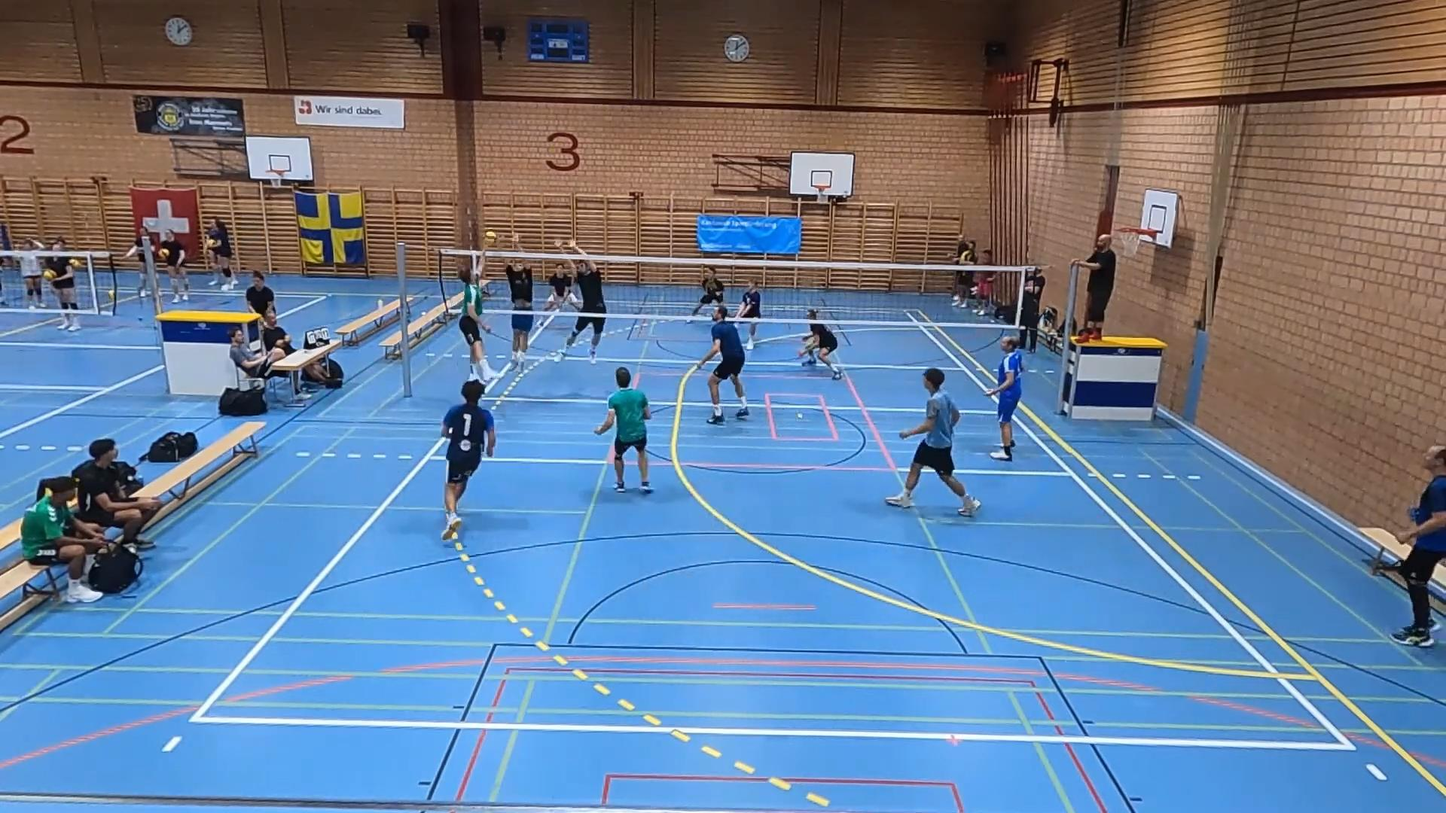Attack: (455, 254, 493, 383)
Block: (549, 232, 614, 366), (491, 228, 538, 373)
Player: (885, 367, 981, 516), (442, 379, 495, 540), (595, 367, 652, 494), (696, 305, 749, 424), (986, 336, 1023, 461), (798, 309, 841, 379), (737, 281, 762, 352), (545, 263, 581, 309), (691, 266, 724, 315)
ball: (483, 230, 500, 241)
